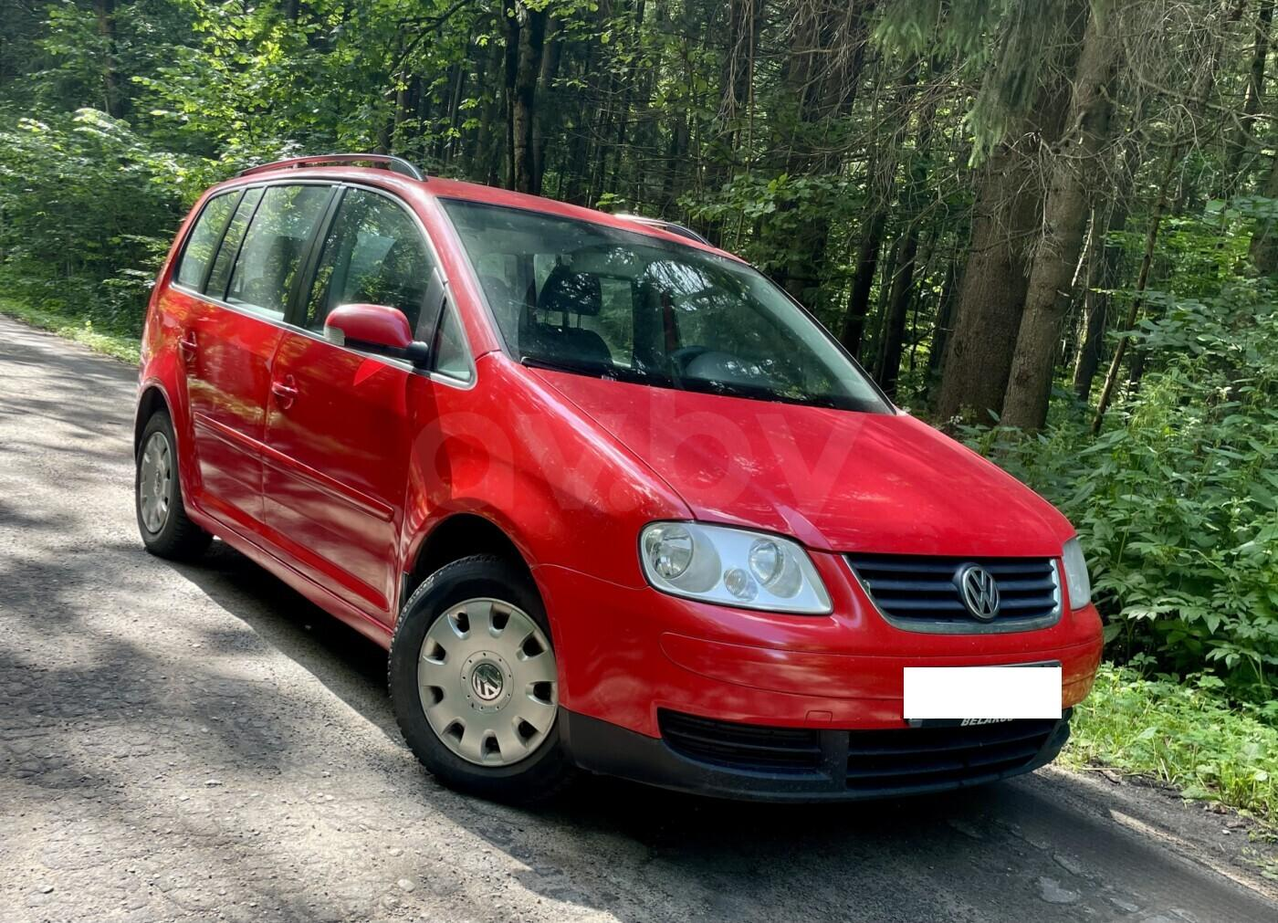Touran_2003-2006: (121, 154, 1103, 807)
